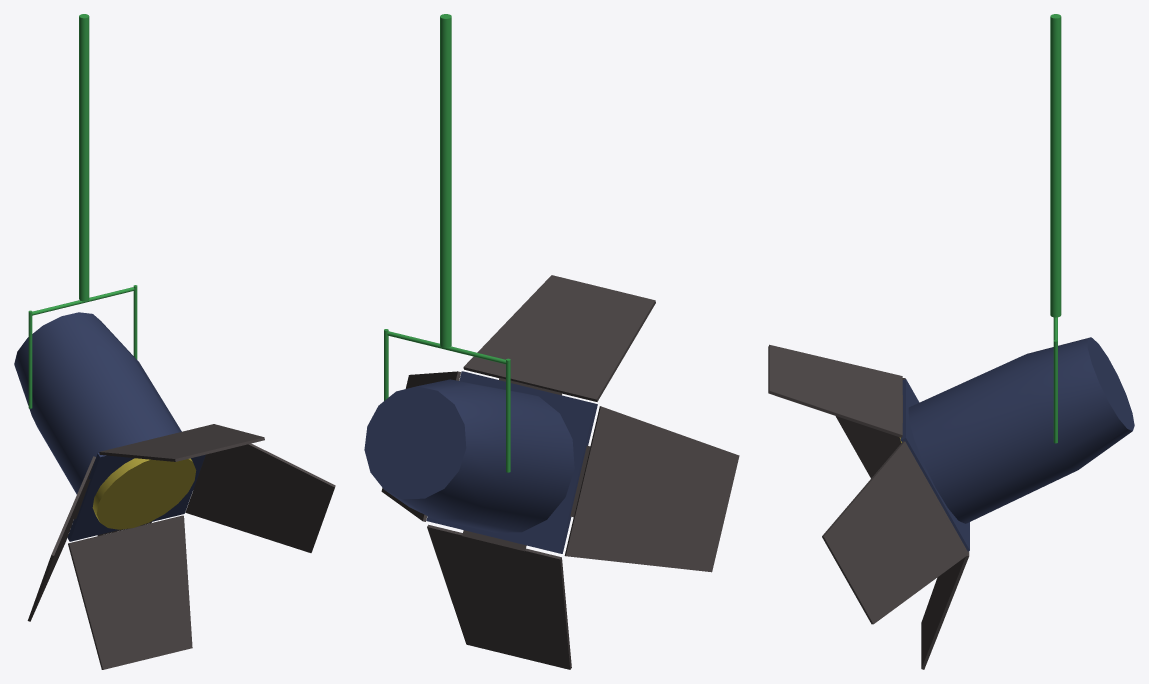
Rendered from Stage_Light.fbx.
3 views of the same model, side by side, from view 1: azimuth 30°, elevation 25°; view 2: azimuth 150°, elevation 25°; view 3: azimuth 270°, elevation 25° (orthographic). The views are drawn at different scales.
Parts seen in each view (by area): view 1: polySurface3, polySurface10, polySurface9, polySurface6, polySurface5, pCylinder4, polySurface2, polySurface7, pCylinder6; view 2: polySurface3, polySurface7, polySurface5, polySurface10, polySurface2, pCylinder4, polySurface9, pCylinder7, pCylinder6; view 3: polySurface3, polySurface9, polySurface5, pCylinder4, polySurface10, polySurface7, polySurface2.
Boxes of the visible parts, <box> form: polySurface3: <box>14,312,181,494</box>; polySurface10: <box>68,515,192,669</box>; polySurface9: <box>185,443,335,552</box>; polySurface6: <box>92,458,196,529</box>; polySurface5: <box>99,424,264,461</box>; pCylinder4: <box>79,14,89,301</box>; polySurface2: <box>67,453,205,541</box>; polySurface7: <box>27,456,95,621</box>; pCylinder6: <box>28,310,32,408</box>; polySurface3: <box>364,379,574,532</box>; polySurface7: <box>564,406,739,572</box>; polySurface5: <box>463,275,655,401</box>; polySurface10: <box>427,524,571,669</box>; polySurface2: <box>426,371,597,553</box>; pCylinder4: <box>440,14,451,347</box>; polySurface9: <box>381,371,460,521</box>; pCylinder7: <box>387,331,506,364</box>; pCylinder6: <box>506,358,510,472</box>; polySurface3: <box>908,337,1134,523</box>; polySurface9: <box>822,441,968,624</box>; polySurface5: <box>768,344,902,437</box>; pCylinder4: <box>1050,14,1061,317</box>; polySurface10: <box>921,551,969,669</box>; polySurface7: <box>835,378,905,478</box>; polySurface2: <box>900,379,969,551</box>.
Size of the model in its own units: 4.43 by 8.88 by 4.67.
